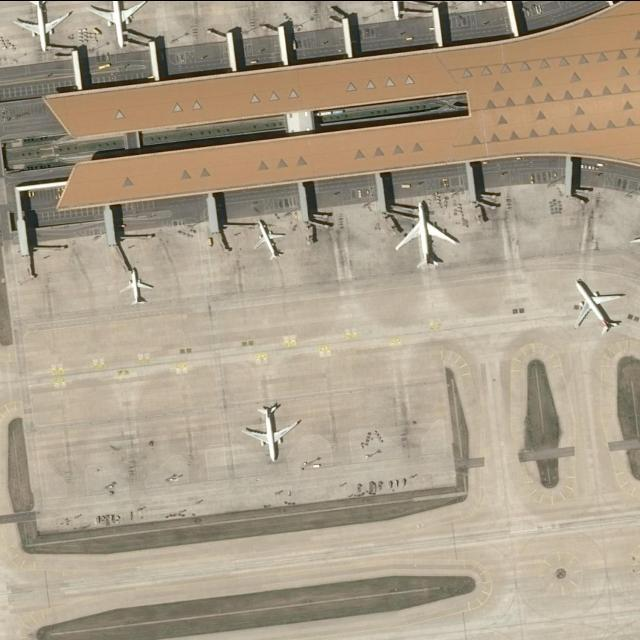Aircraft: (394, 196, 464, 270), (246, 395, 300, 463), (86, 0, 152, 51), (573, 275, 624, 337), (16, 1, 71, 57), (363, 0, 430, 26), (250, 219, 290, 260), (122, 267, 156, 307)
